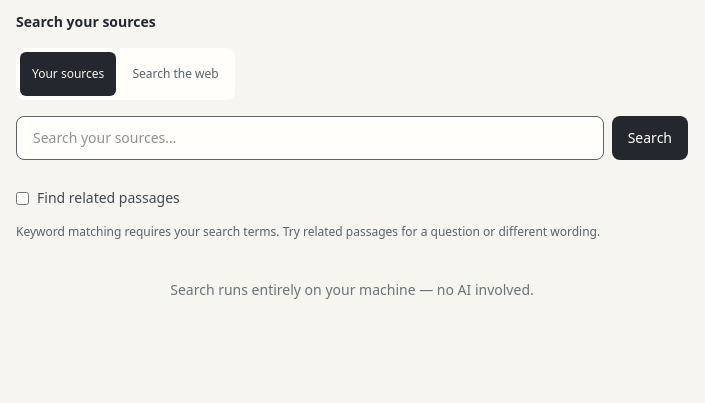
Test: a single source renders one group
The image size is (705, 403).
Type "cells" into the search field with placeholder "Search your sources…". click: (310, 138)
box: 16,116 -> 604,160
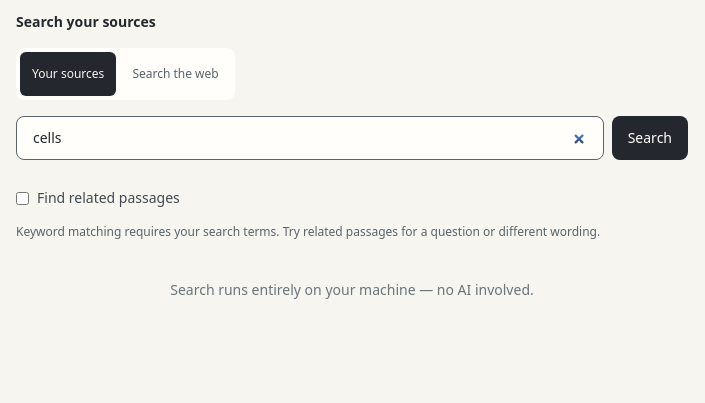
Click the button with aria-label "submit search". click: (650, 138)
box: 612,116 -> 688,160
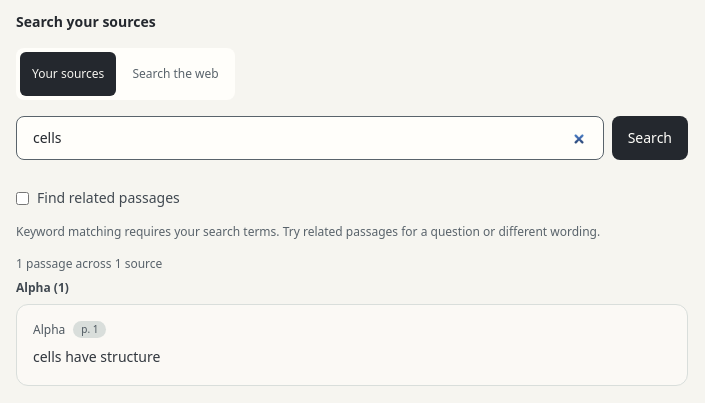
Now the message named "Search result count" is shown, box 16,255 -> 162,272
Now the number of elements with test id "search-source-group" is 1, box 16,280 -> 688,386
